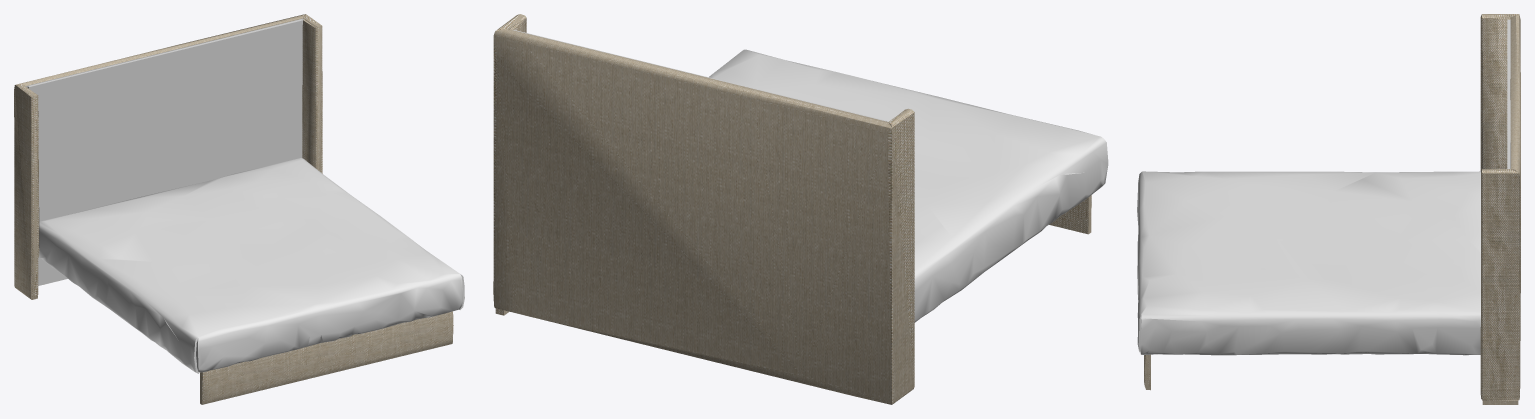
Rendered from bed.FBX.
3 renders of one model, left to right at view 1: azimuth 30°, elevation 25°; view 2: azimuth 150°, elevation 25°; view 3: azimuth 270°, elevation 25°, orthographic. The views are drawn at different scales.
Visible parts, largest first — view 1: bed; view 2: bed; view 3: bed.
Part boxes in pixels (x1,y1,x2,y2): bed: [14, 14, 464, 404]; bed: [493, 14, 1108, 404]; bed: [1137, 14, 1520, 404].
Size of the model in its own units: 2.12 by 1.44 by 2.15.
